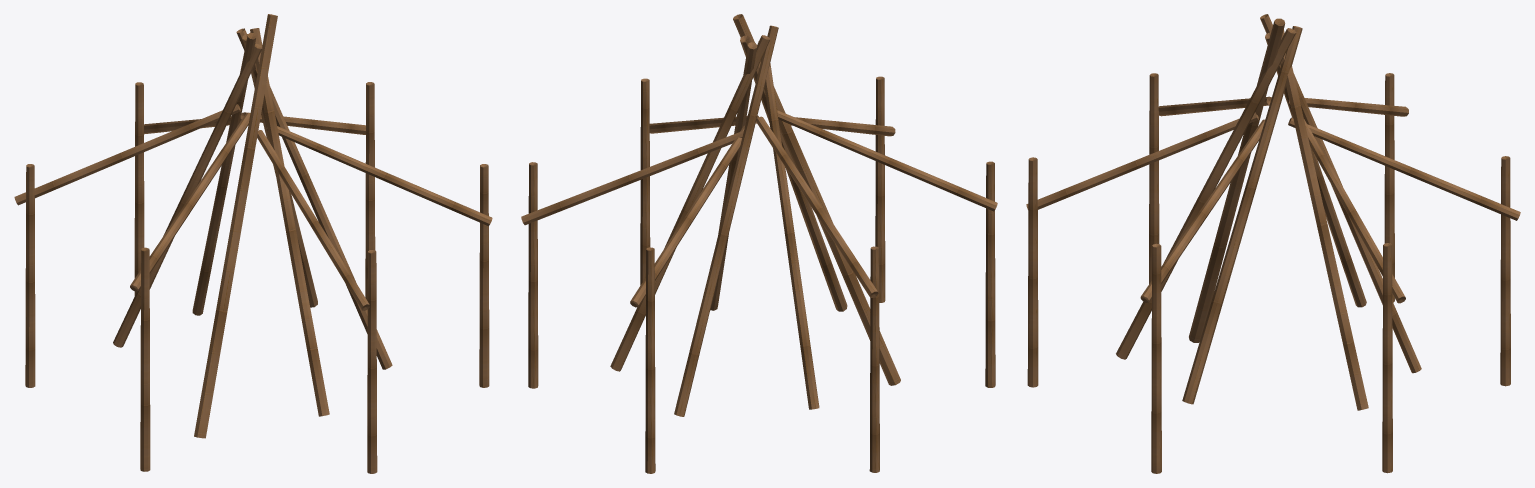
The model's file is frameForSoupOpera.fbx.
3 renders of one model, left to right at view 1: azimuth 30°, elevation 25°; view 2: azimuth 150°, elevation 25°; view 3: azimuth 270°, elevation 25°, orthographic. The views are drawn at different scales.
Parts seen in each view (by area): view 1: frameForSoupOpera; view 2: frameForSoupOpera; view 3: frameForSoupOpera.
Boxes of the visible parts, x1=… form: frameForSoupOpera: x1=14, y1=14, x2=492, y2=473; frameForSoupOpera: x1=521, y1=14, x2=997, y2=473; frameForSoupOpera: x1=1026, y1=14, x2=1520, y2=473.
Bounding box in the file's own units: 943 × 931 × 1105.
